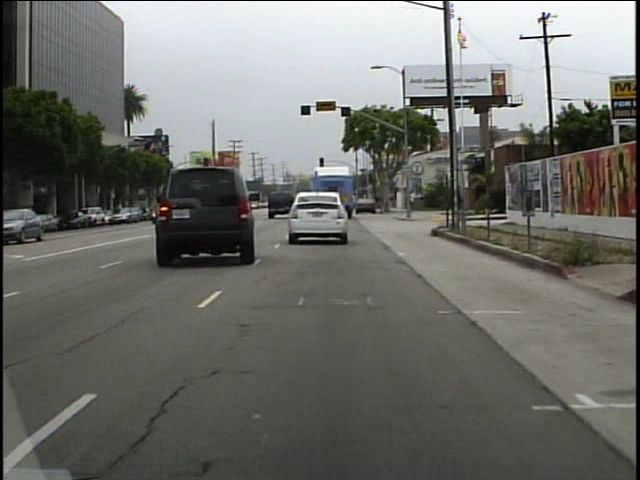person: (401, 189, 410, 214), (409, 187, 418, 211)
